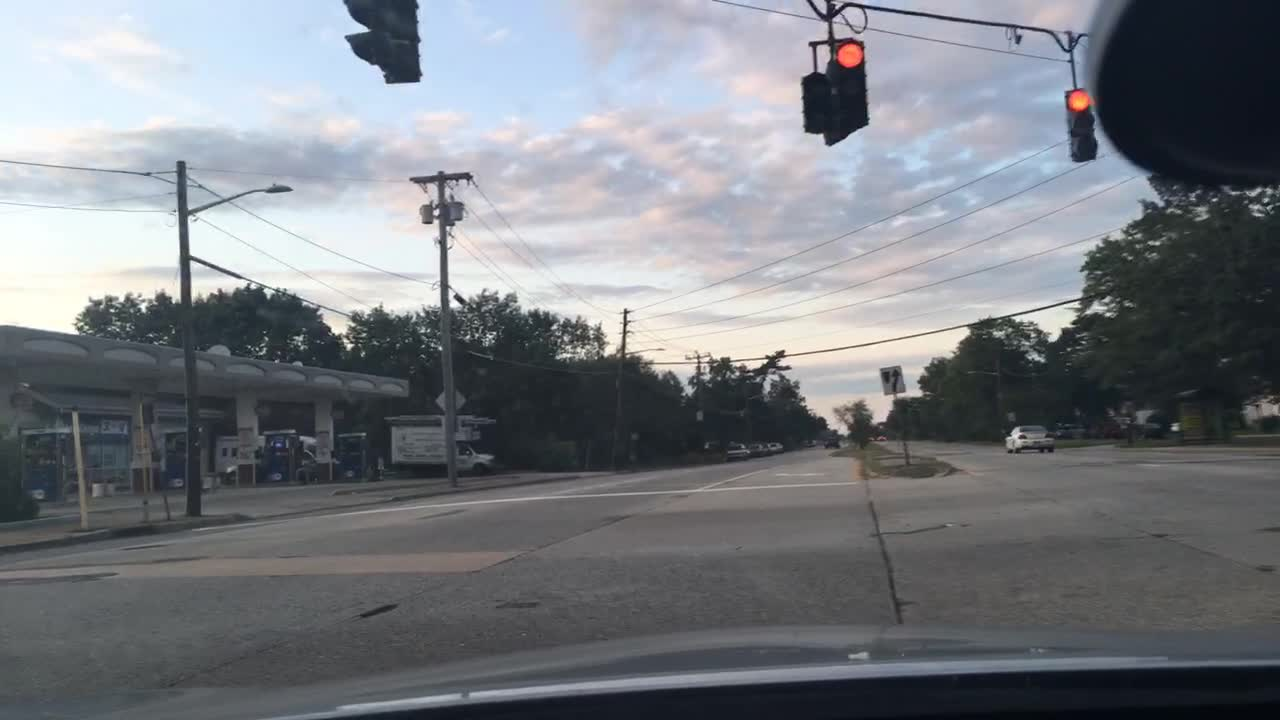car: (1003, 425, 1055, 454), (721, 444, 751, 459), (821, 435, 839, 450), (766, 441, 781, 455), (752, 444, 767, 456)
traffic light: (345, 0, 419, 84), (833, 38, 869, 123), (1065, 87, 1099, 162), (801, 74, 828, 137)
traffic sign: (880, 365, 903, 394)
truck: (384, 411, 499, 476), (215, 434, 319, 475)
